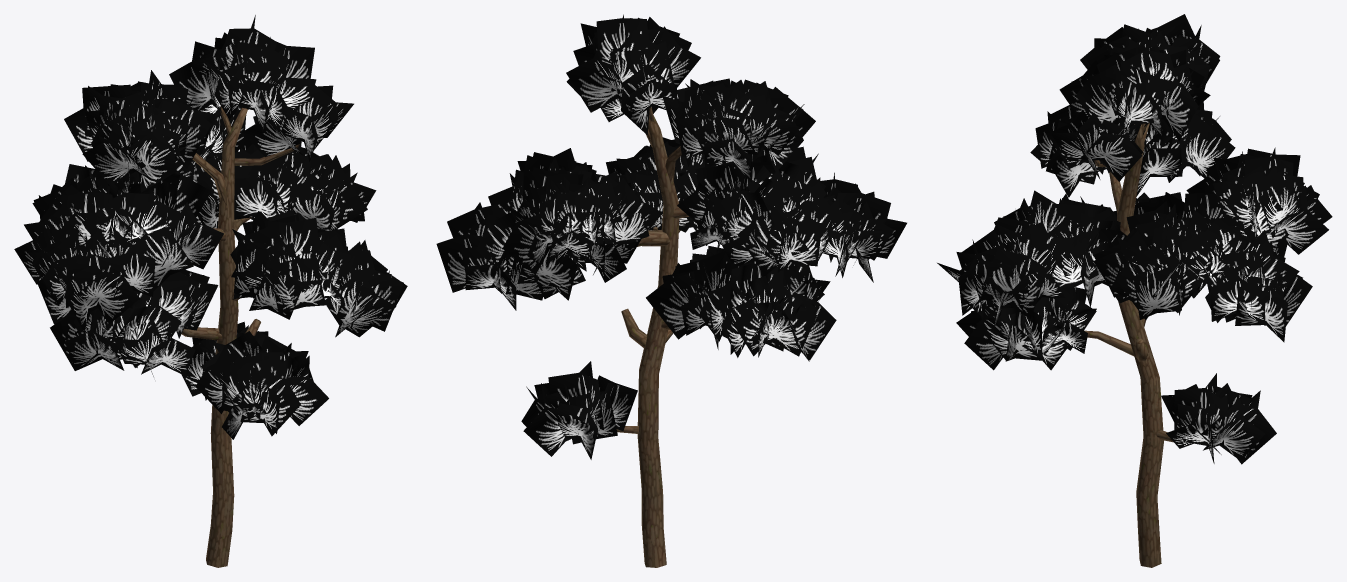
File: P_ChinaPine01.obj
3 views of the same model, side by side, from view 1: azimuth 30°, elevation 25°; view 2: azimuth 150°, elevation 25°; view 3: azimuth 270°, elevation 25° (orthographic).
Size of the model in its own units: 10.58 by 15.25 by 10.23.
